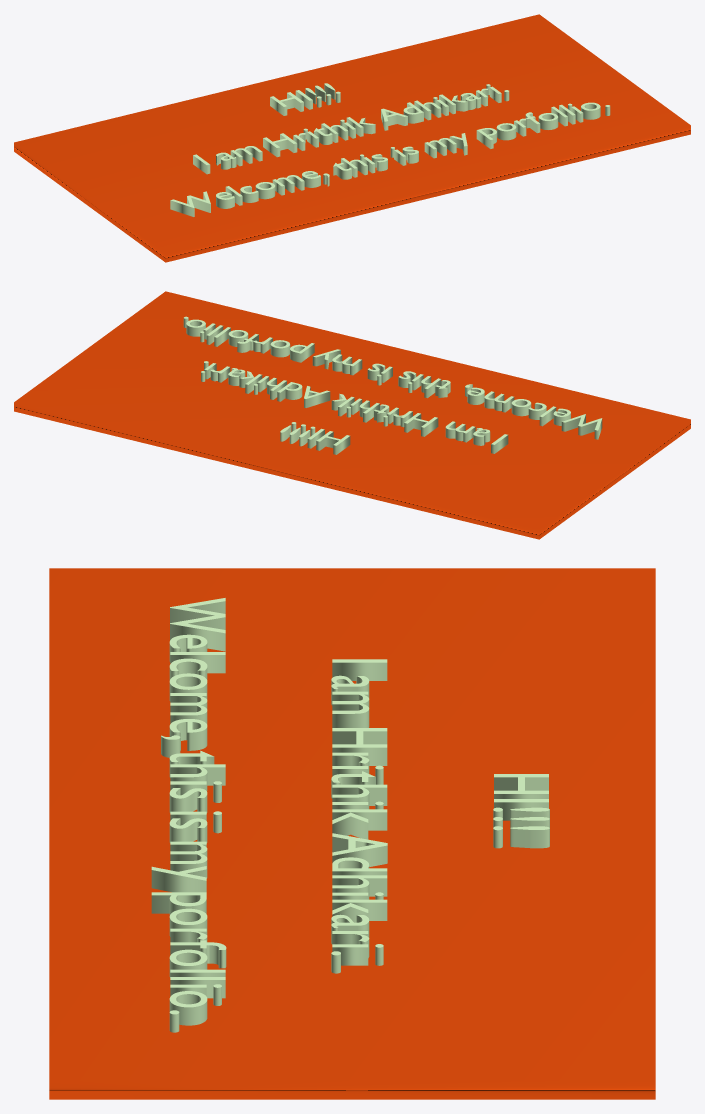
Rendered from intro_board.gltf.
3 views of the same model, one above another, from view 1: azimuth 30°, elevation 25°; view 2: azimuth 150°, elevation 25°; view 3: azimuth 270°, elevation 25° (orthographic). The views are drawn at different scales.
Visible parts, largest first — view 1: Cube; view 2: Cube; view 3: Cube.
Part boxes in pixels (bbox=[...]): Cube: bbox=[14, 14, 690, 262]; Cube: bbox=[14, 291, 690, 539]; Cube: bbox=[49, 568, 655, 1099].
Size of the model in its own units: 12 by 0.5943 by 6.
